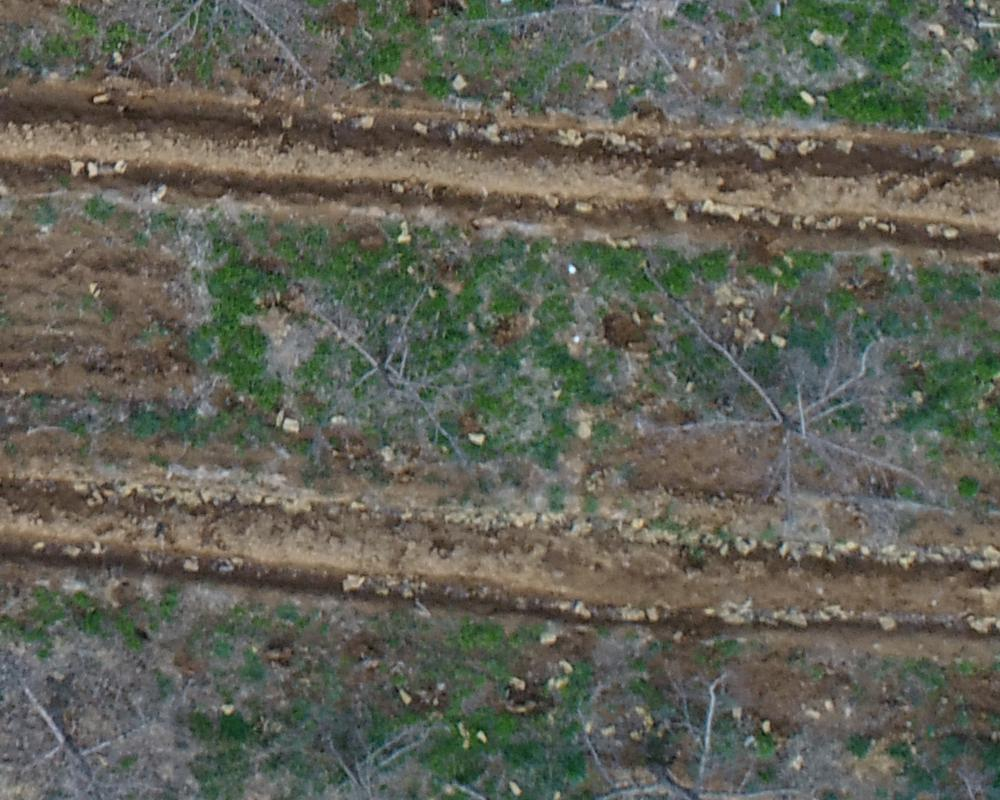apple: (629, 261, 963, 534), (439, 10, 851, 140), (287, 267, 507, 481), (518, 651, 793, 790), (10, 657, 175, 790), (291, 688, 469, 790)
